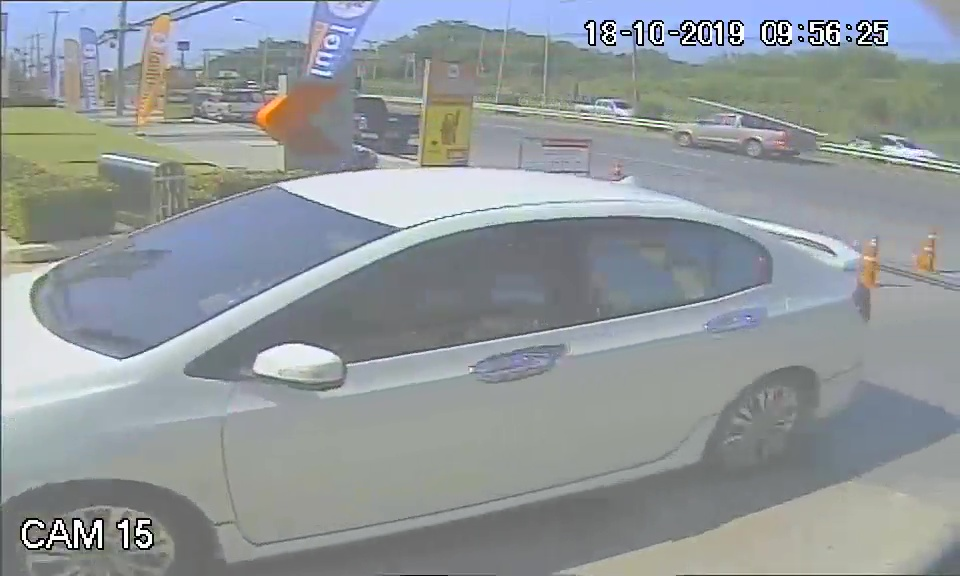sedan: (7, 164, 866, 505)
